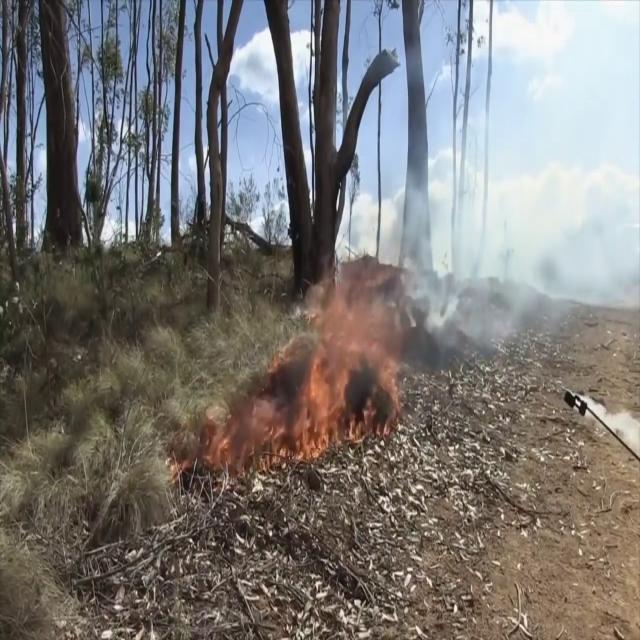Fire: (288, 262, 418, 463)
Smoke: (400, 150, 640, 350)
